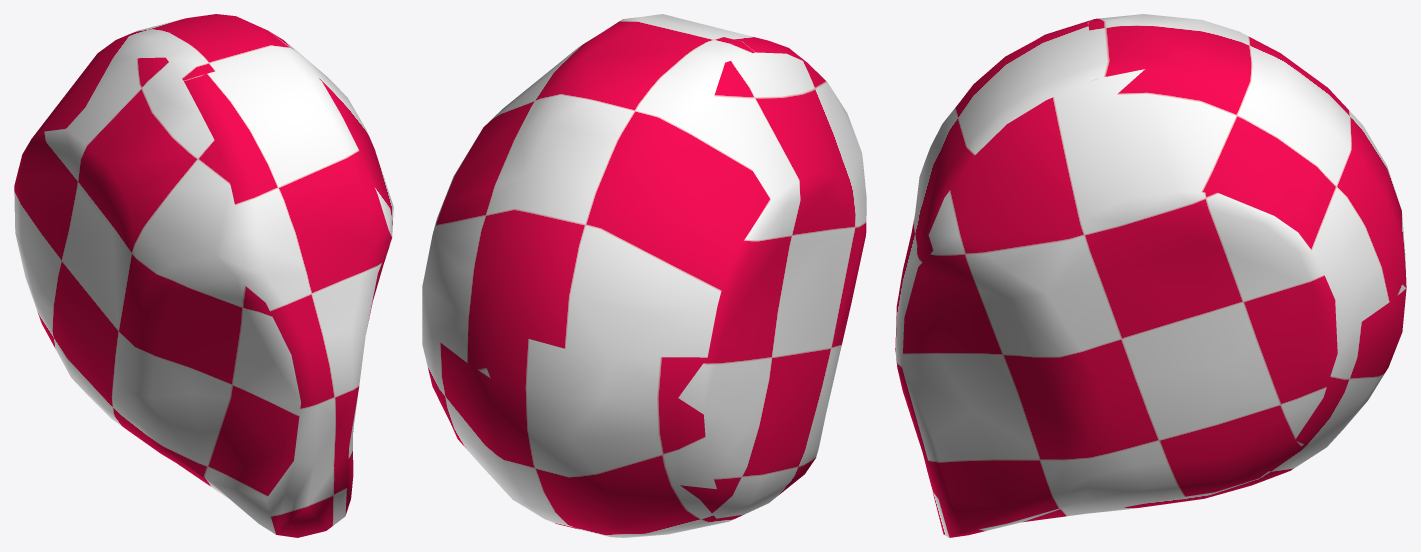
File: head.obj
The picture shows the model from 3 angles, left to right: view 1: azimuth 30°, elevation 25°; view 2: azimuth 150°, elevation 25°; view 3: azimuth 270°, elevation 25°; orthographic projection. The views are drawn at different scales.
Parts seen in each view (by area): view 1: Alpha_Surface_Alpha_SurfaceMesh; view 2: Alpha_Surface_Alpha_SurfaceMesh; view 3: Alpha_Surface_Alpha_SurfaceMesh.
Boxes of the visible parts, <box> form: Alpha_Surface_Alpha_SurfaceMesh: <box>14,14,393,537</box>; Alpha_Surface_Alpha_SurfaceMesh: <box>422,14,866,537</box>; Alpha_Surface_Alpha_SurfaceMesh: <box>895,14,1406,537</box>.
Bounding box in the file's own units: 0.1611 × 0.2588 × 0.2472.
